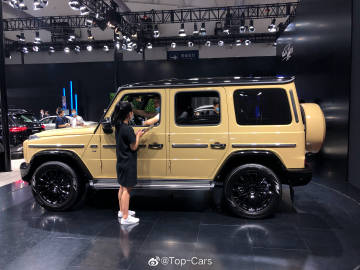other: (26, 79, 320, 212)
